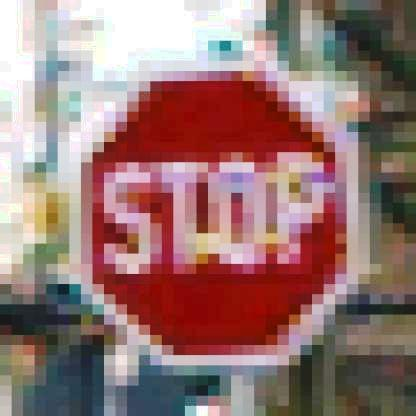Stop Sign: (74, 62, 371, 368)
